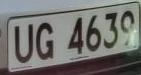3: (100, 9, 120, 50)
4: (65, 13, 86, 57)
6: (84, 13, 103, 55)
9: (119, 6, 136, 48)
G: (34, 18, 57, 64)
U: (13, 19, 35, 68)
